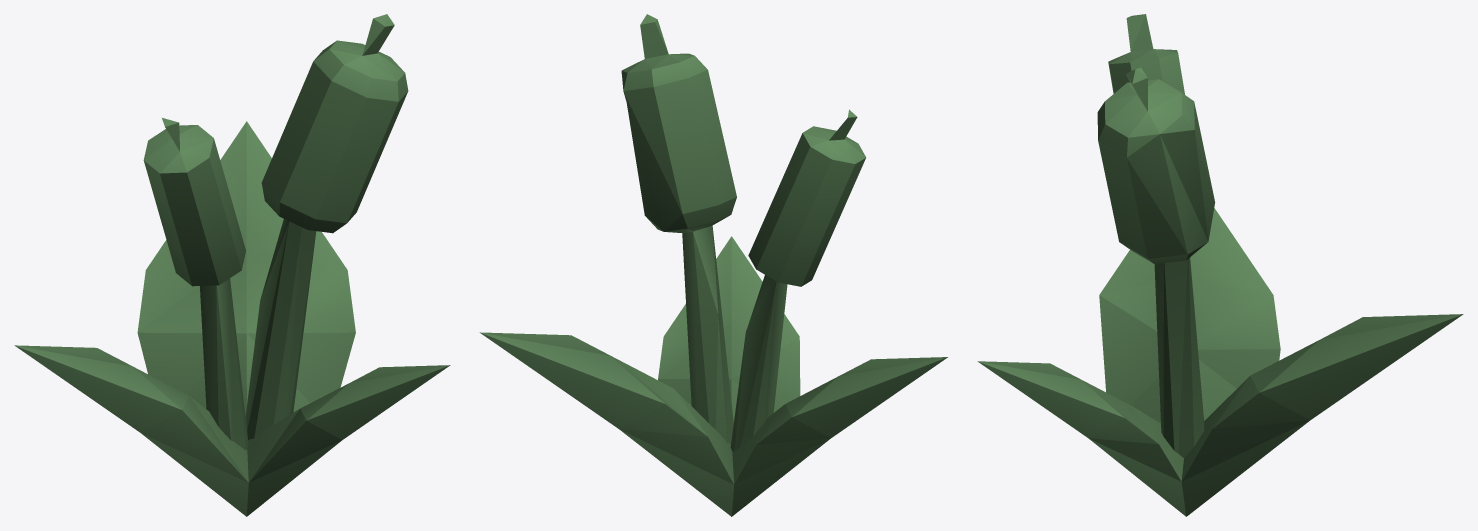
Rendered from plant_reed_2.glb.
3 renders of one model, left to right at view 1: azimuth 30°, elevation 25°; view 2: azimuth 150°, elevation 25°; view 3: azimuth 270°, elevation 25°, orthographic. The views are drawn at different scales.
Parts seen in each view (by area): view 1: plant_reed_2; view 2: plant_reed_2; view 3: plant_reed_2.
Part boxes in pixels (x1,y1,x2,y2): plant_reed_2: [14, 14, 450, 516]; plant_reed_2: [479, 14, 947, 516]; plant_reed_2: [977, 14, 1463, 516].
Bounding box in the file's own units: 0.9402 × 1.2 × 1.05.
